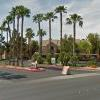Palm tree: (5, 2, 81, 55)
